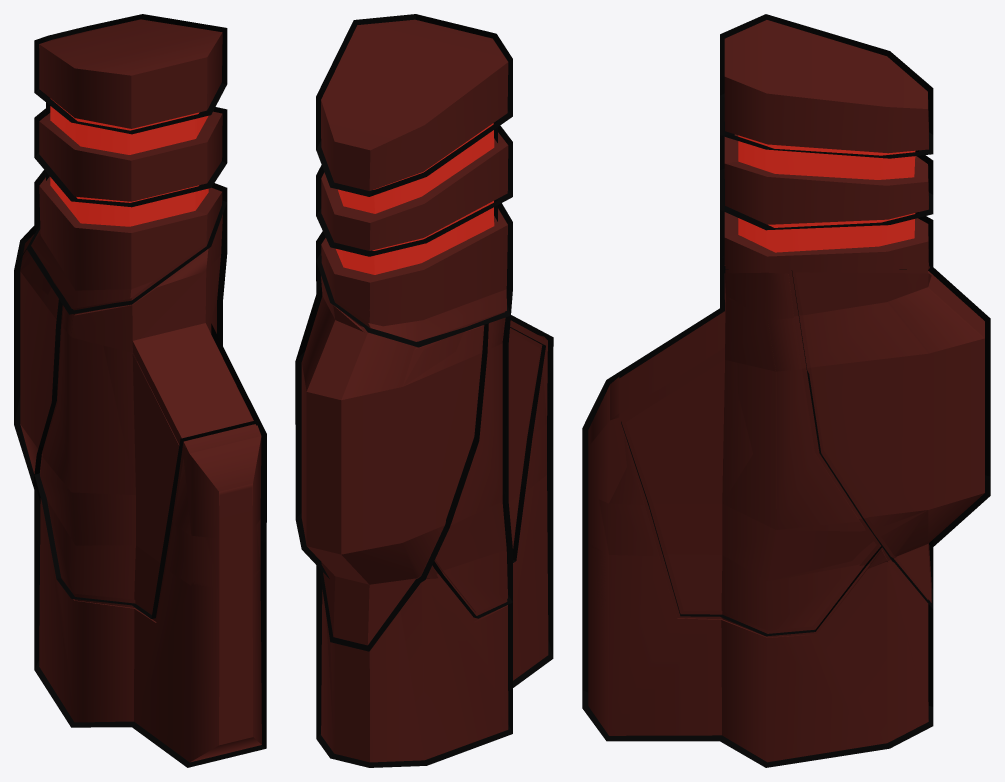
Rendered from Obstacle1.fbx.
3 views of the same model, side by side, from view 1: azimuth 30°, elevation 25°; view 2: azimuth 150°, elevation 25°; view 3: azimuth 270°, elevation 25° (orthographic). The views are drawn at different scales.
Parts seen in each view (by area): view 1: Cube, Fragment, Fragment.003, Fragment.001, Fragment.002; view 2: Cube, Fragment.002, Fragment.001, Fragment, Fragment.003; view 3: Cube, Fragment, Fragment.003, Fragment.002, Fragment.001.
Part boxes in pixels (x1,y1,x2,y2): Cube: [14, 14, 266, 762]; Fragment: [33, 419, 266, 767]; Fragment.003: [34, 203, 227, 618]; Fragment.001: [26, 14, 227, 314]; Fragment.002: [14, 227, 58, 485]; Cube: [295, 14, 553, 767]; Fragment.002: [295, 261, 488, 651]; Fragment.001: [316, 19, 512, 347]; Fragment: [316, 329, 553, 767]; Fragment.003: [434, 317, 545, 618]; Cube: [582, 14, 984, 767]; Fragment: [582, 377, 933, 762]; Fragment.003: [621, 270, 881, 636]; Fragment.002: [791, 269, 990, 608]; Fragment.001: [720, 14, 933, 269].
Bounding box in the file's own units: 173 × 700 × 383.
